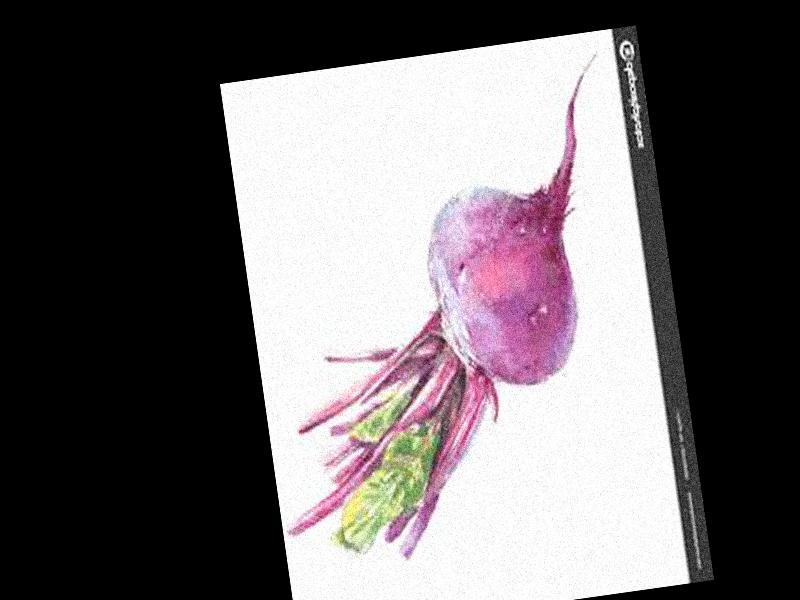Beet: (227, 54, 662, 574)
